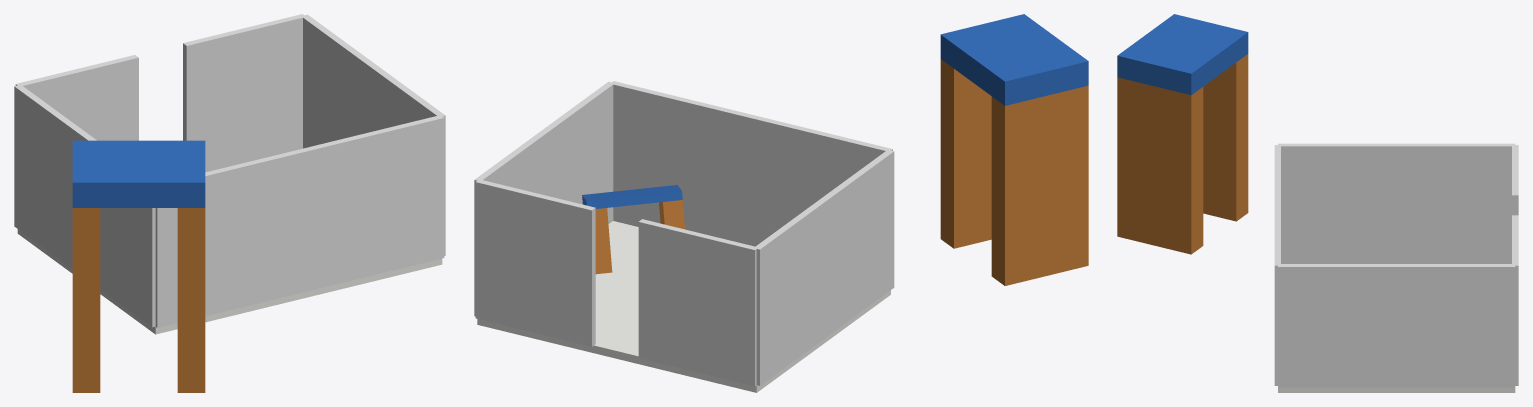
The model's file is receiver.glb.
The picture shows the model from 3 angles, left to right: view 1: azimuth 30°, elevation 25°; view 2: azimuth 150°, elevation 25°; view 3: azimuth 270°, elevation 25°; orthographic projection. The views are drawn at different scales.
Visible parts, largest first — view 1: wall-wall-4, wall-wall-2, wall-wall-5, wall-wall-3, reference-space, wall-wall-1, mesh_0_instance_0, mesh_0_instance_1, floor-1; view 2: wall-wall-4, wall-wall-5, mesh_0_instance_0 (×2), wall-wall-2, wall-wall-1, mesh_0_instance_1 (×2), wall-wall-3, reference-space, floor-1, mesh_1; view 3: wall-wall-3, wall-wall-5, mesh_0_instance_1, reference-space, mesh_0_instance_0, floor-1, wall-wall-4, wall-wall-2, wall-wall-1.
Boxes of the visible parts, x1,y1,x2,y2 form: wall-wall-4: (155, 116, 444, 327); wall-wall-2: (183, 14, 305, 172); wall-wall-5: (14, 85, 155, 327); wall-wall-3: (301, 14, 445, 255); reference-space: (72, 140, 205, 207); wall-wall-1: (15, 55, 138, 140); mesh_0_instance_0: (72, 208, 100, 392); mesh_0_instance_1: (177, 208, 205, 392); floor-1: (17, 229, 442, 334); wall-wall-4: (610, 81, 892, 246); wall-wall-5: (754, 150, 894, 385); mesh_0_instance_0 (×2): (659, 85, 1088, 285); wall-wall-2: (475, 180, 595, 346); wall-wall-1: (638, 219, 758, 386); mesh_0_instance_1 (×2): (595, 59, 991, 274); wall-wall-3: (474, 81, 614, 316); reference-space: (940, 14, 1088, 105); floor-1: (477, 221, 890, 392); mesh_1: (582, 185, 682, 208); wall-wall-3: (1278, 264, 1515, 387); wall-wall-5: (1278, 143, 1515, 263); mesh_0_instance_1: (1117, 77, 1203, 254); reference-space: (1117, 14, 1248, 95); mesh_0_instance_0: (1203, 54, 1248, 221); floor-1: (1278, 387, 1515, 392); wall-wall-4: (1274, 145, 1280, 385); wall-wall-2: (1512, 215, 1518, 385); wall-wall-1: (1512, 145, 1518, 215).
Bounding box in the file's own units: 9.06 × 4.61 × 8.45.
